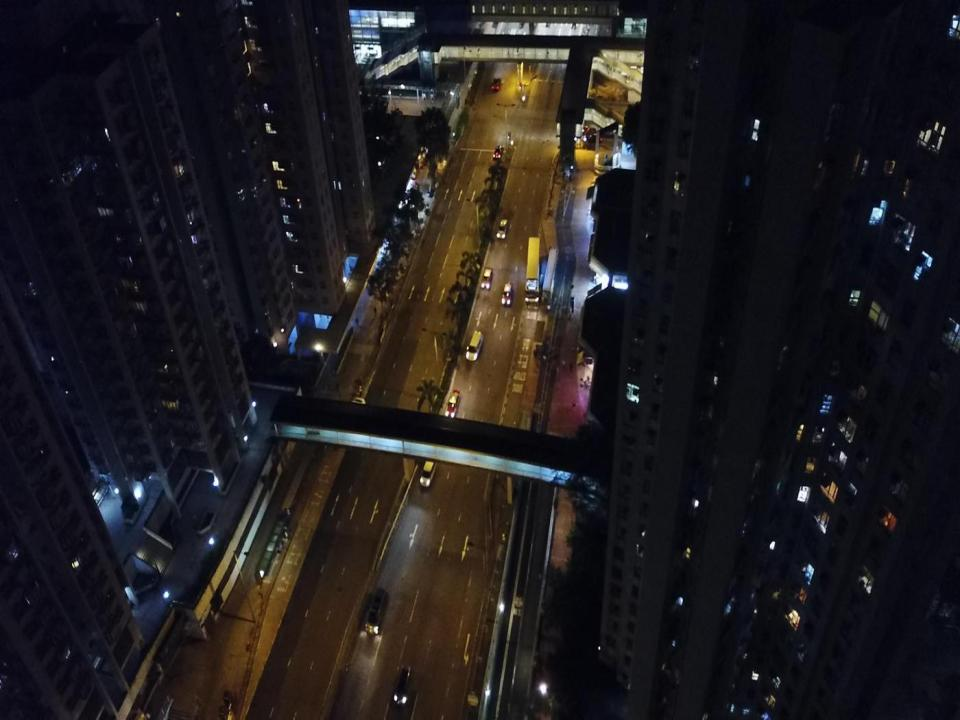bus: (525, 236, 541, 303)
car: (364, 586, 390, 636), (392, 664, 414, 708), (465, 329, 484, 362), (419, 456, 438, 487), (444, 388, 461, 418), (500, 281, 513, 307), (495, 218, 510, 240), (481, 266, 494, 290), (492, 143, 504, 161), (491, 76, 502, 91)
